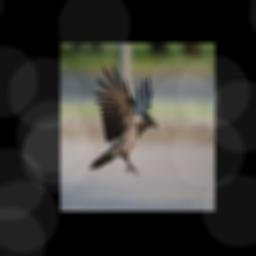Crow: (88, 62, 158, 175)
